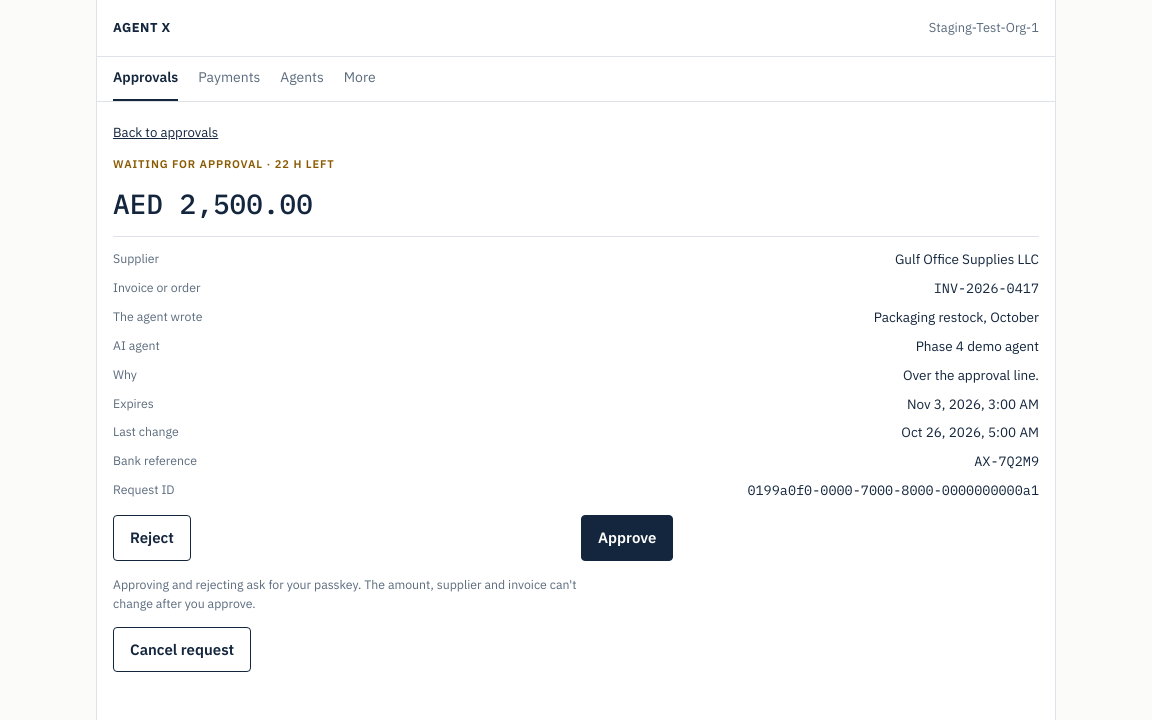
Test: one request’s page (6B1) › keeps nothing when the person backs out of an approve answer
Click the button "Approve".
click(627, 538)  # box [581,515,673,561]
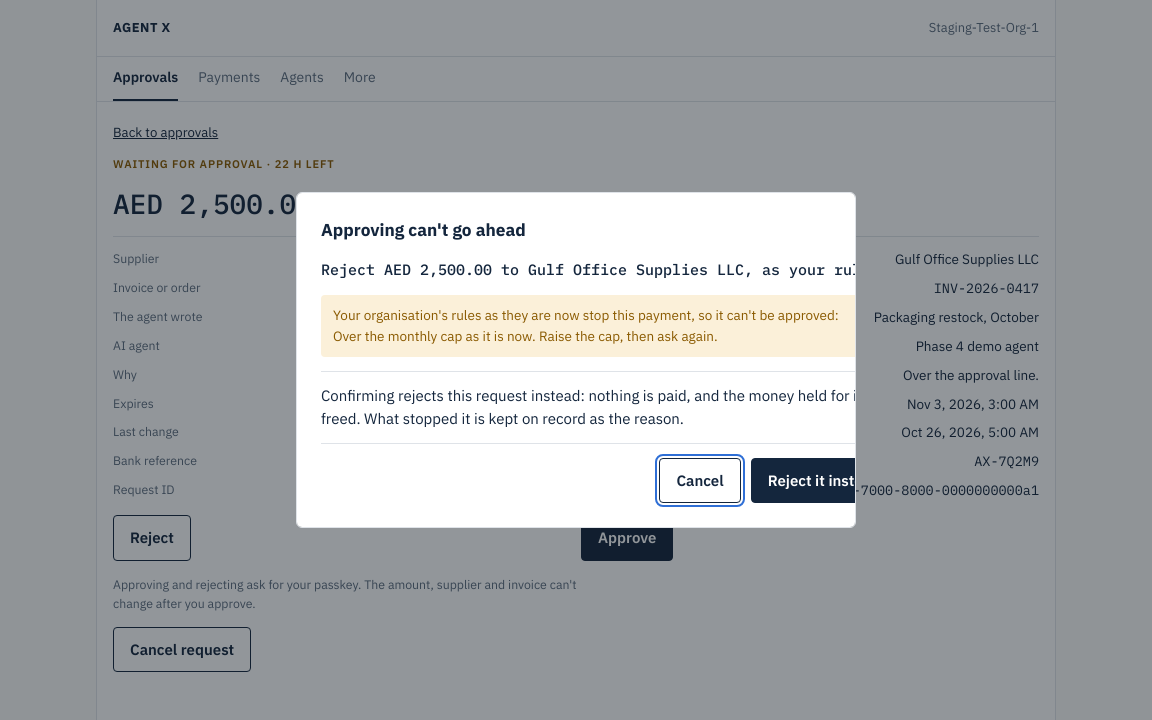
Click the button "Cancel".
click(700, 480)  # box [659,458,741,503]
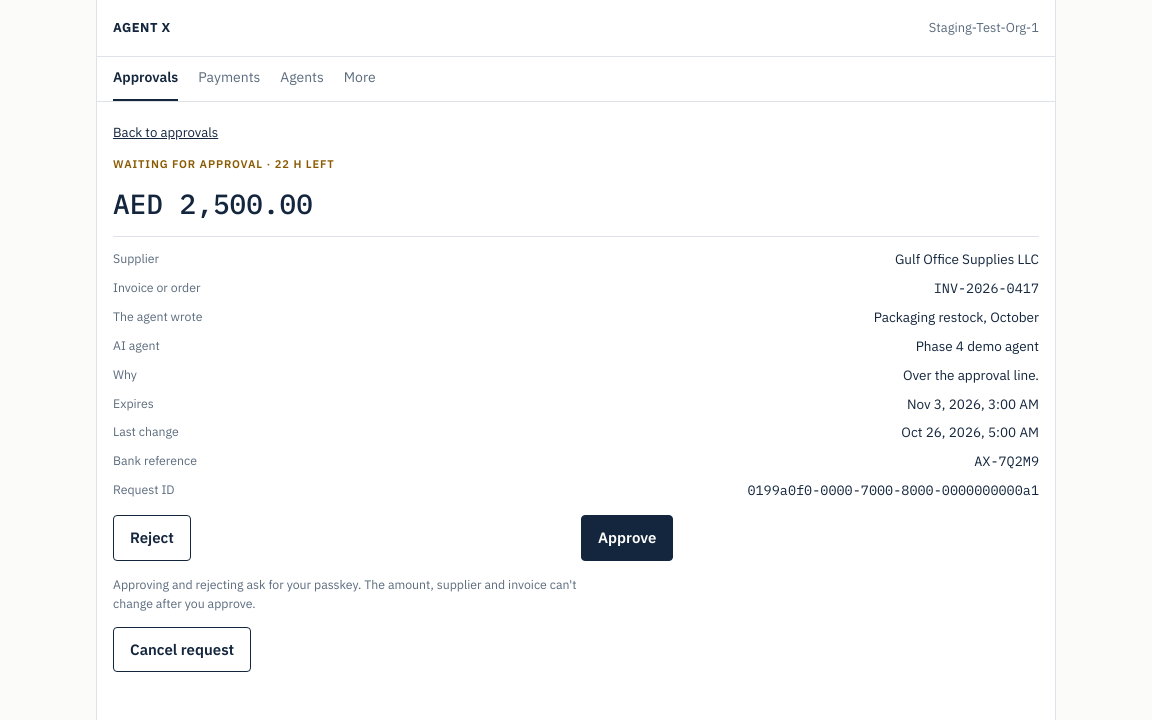
Now the dialog is gone
